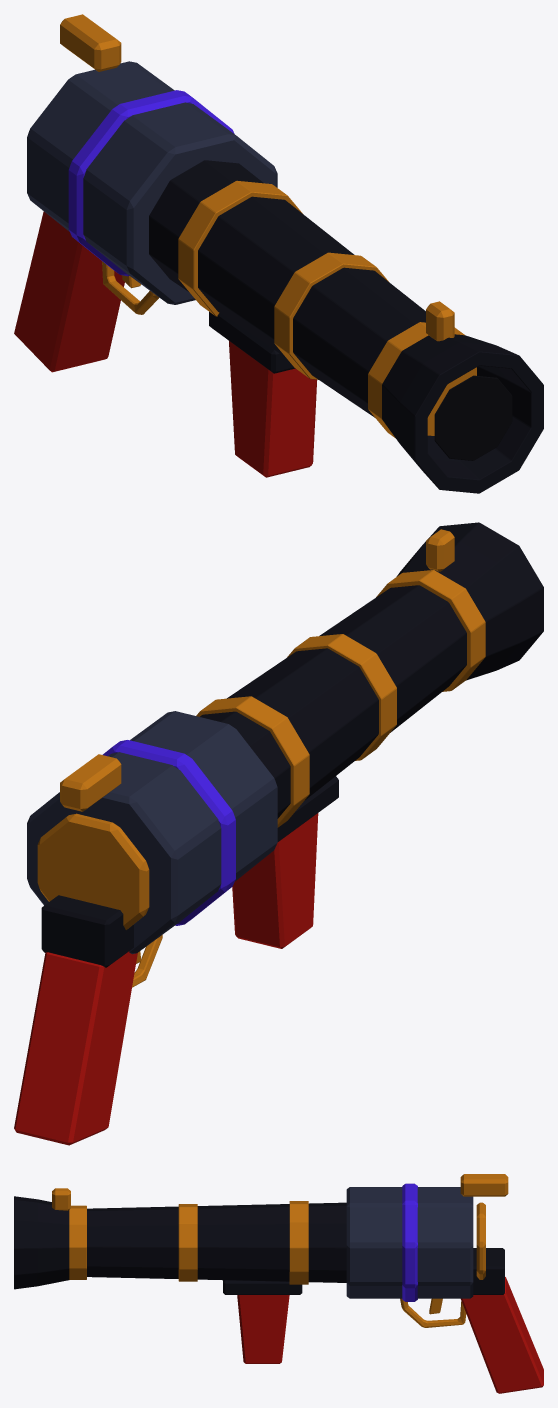
File: myw_handcannon.obj
The picture shows the model from 3 angles, top to bottom: view 1: azimuth 30°, elevation 25°; view 2: azimuth 150°, elevation 25°; view 3: azimuth 270°, elevation 25°; orthographic projection. The views are drawn at different scales.
Visible parts, largest first — view 1: Barrel, Chamber, Frame; view 2: Barrel, Chamber, Frame; view 3: Barrel, Chamber, Frame.
Boxes of the visible parts, left/top/right/bottom form: Barrel: left=149, top=160, right=543, bottom=493; Chamber: left=27, top=14, right=454, bottom=341; Frame: left=14, top=211, right=317, bottom=477; Barrel: left=196, top=522, right=543, bottom=827; Chamber: left=27, top=529, right=454, bottom=954; Frame: left=14, top=776, right=338, bottom=1145; Barrel: left=14, top=1196, right=346, bottom=1289; Chamber: left=52, top=1174, right=508, bottom=1301; Frame: left=223, top=1248, right=543, bottom=1393.
Bounding box in the file's own units: 0.7021 × 1.46 × 3.35.
